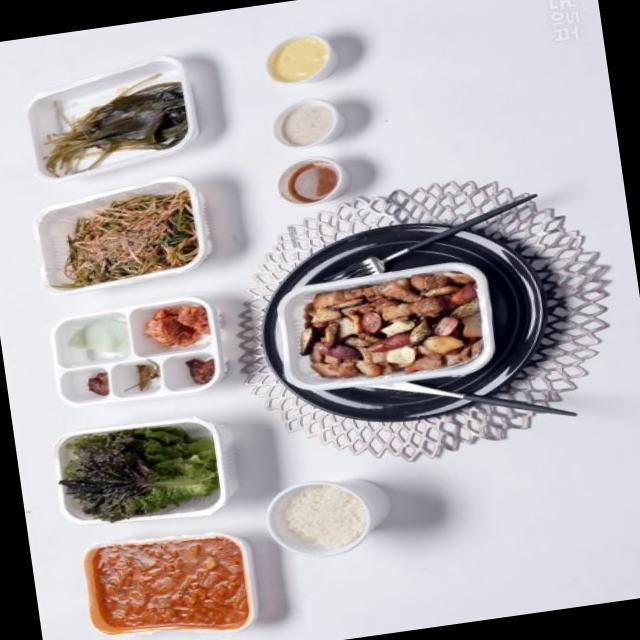plastic-bowl: (262, 253, 523, 404), (13, 39, 232, 200), (18, 161, 236, 313), (26, 279, 252, 418), (45, 406, 254, 535), (69, 526, 276, 640), (246, 465, 416, 571), (251, 30, 362, 95), (260, 89, 365, 156), (265, 148, 369, 213)
